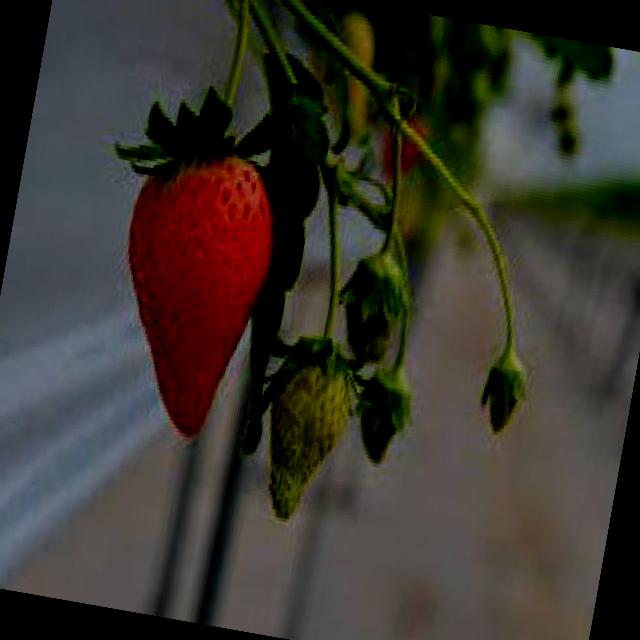Strawberry: (96, 133, 291, 444), (250, 336, 358, 531), (337, 255, 408, 367), (352, 371, 411, 469)
